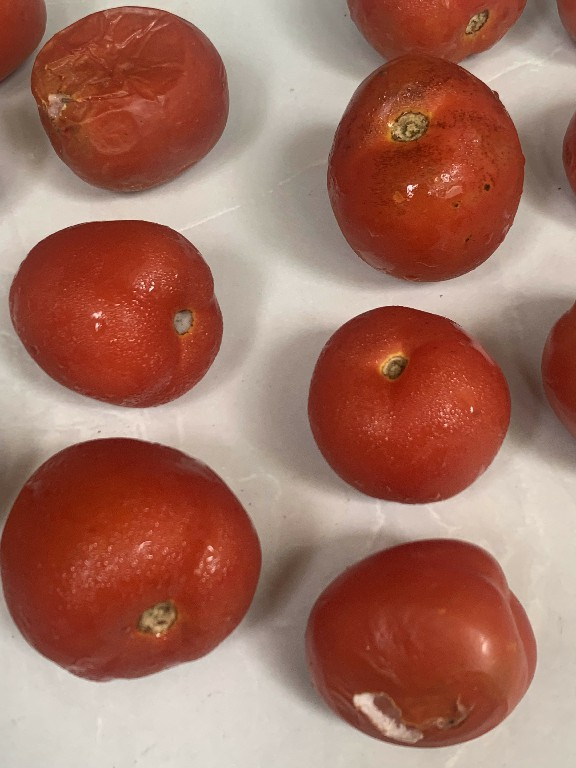NG: (311, 42, 534, 291), (301, 536, 547, 757), (17, 1, 241, 201)
OK: (0, 429, 272, 700), (296, 292, 518, 524), (1, 212, 230, 420)
